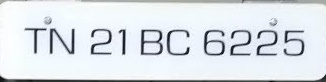character: (47, 25, 76, 56), (22, 23, 48, 54), (165, 27, 191, 56), (88, 26, 113, 56), (229, 28, 253, 57), (255, 28, 279, 57), (282, 28, 306, 57), (202, 28, 226, 56), (139, 27, 162, 56), (117, 26, 127, 56)
